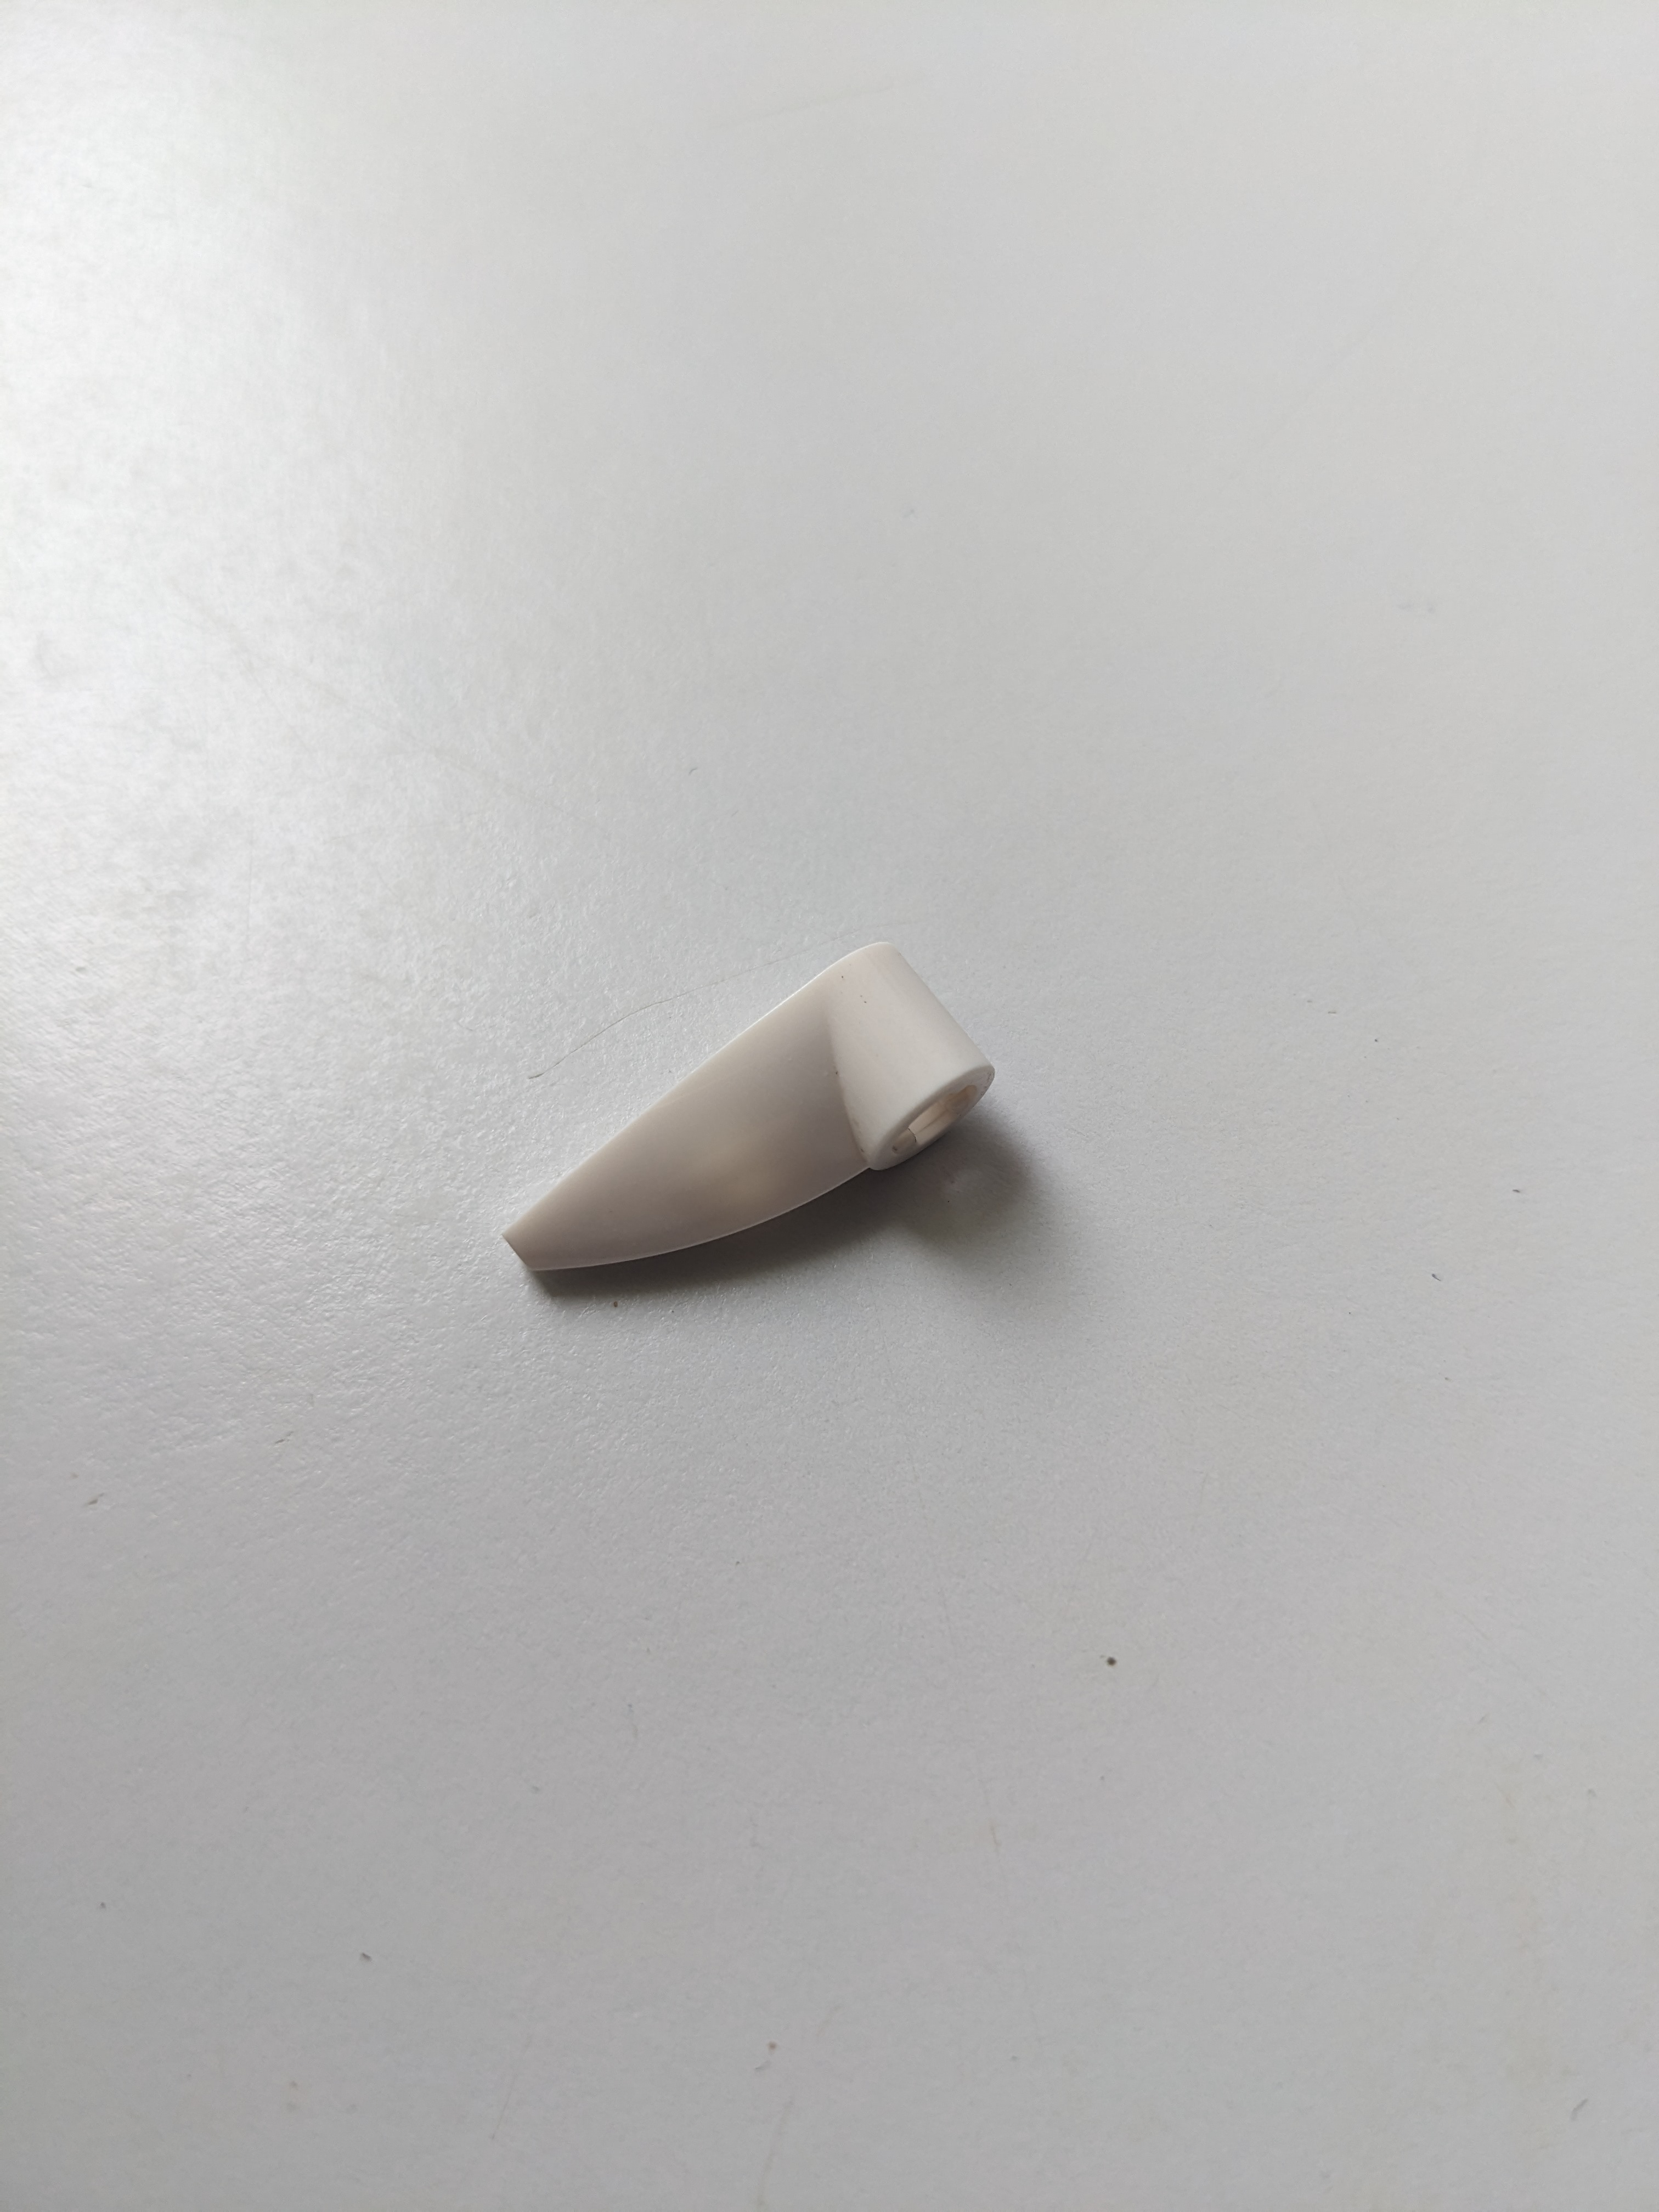Kappe: (481, 927, 1014, 1313)
